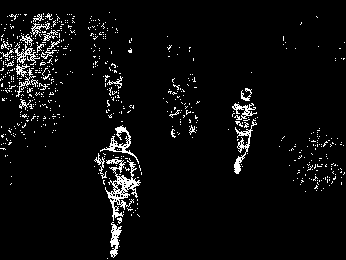person: (93, 124, 144, 258), (230, 86, 259, 175), (101, 63, 127, 120), (181, 71, 200, 136), (165, 77, 183, 138)
